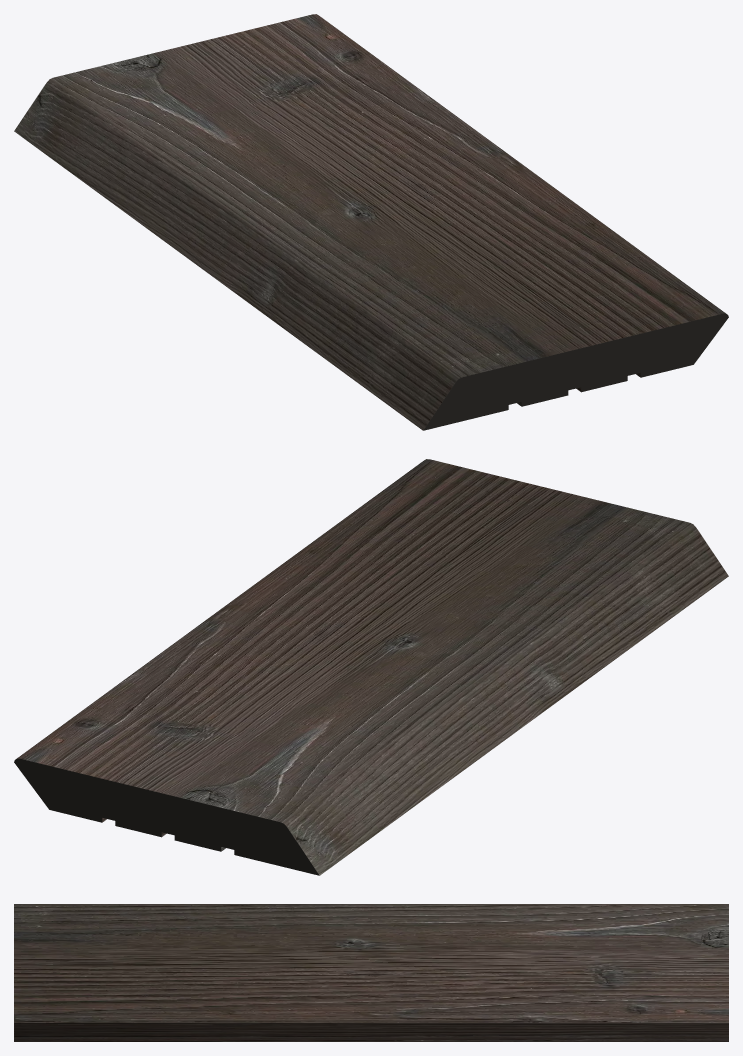
The model's file is spruce-facade-rhombus-dark-brown.glb.
3 views of the same model, one above another, from view 1: azimuth 30°, elevation 25°; view 2: azimuth 150°, elevation 25°; view 3: azimuth 270°, elevation 25° (orthographic). The views are drawn at different scales.
Parts seen in each view (by area): view 1: Rombas; view 2: Rombas; view 3: Rombas.
Part boxes in pixels (x1,y1,x2,y2): Rombas: (14,14,728,430); Rombas: (14,459,728,875); Rombas: (14,904,728,1041).
Bounding box in the file's own units: 0.0723 × 0.00995 × 0.1675.
Materials: 3 (1 with a texture image).
